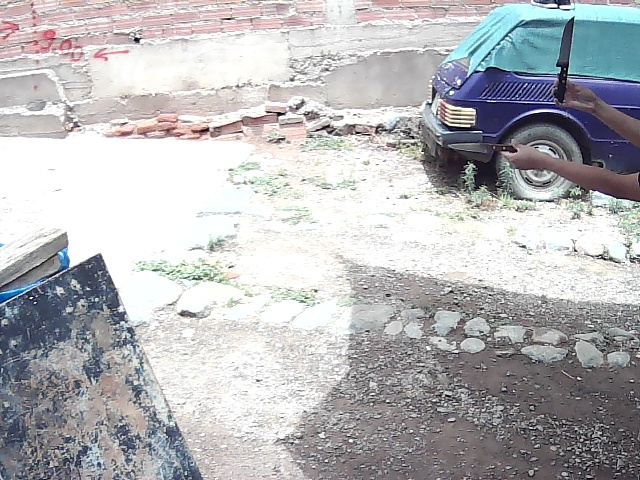cuchillo: (552, 11, 579, 87), (443, 139, 504, 157)
